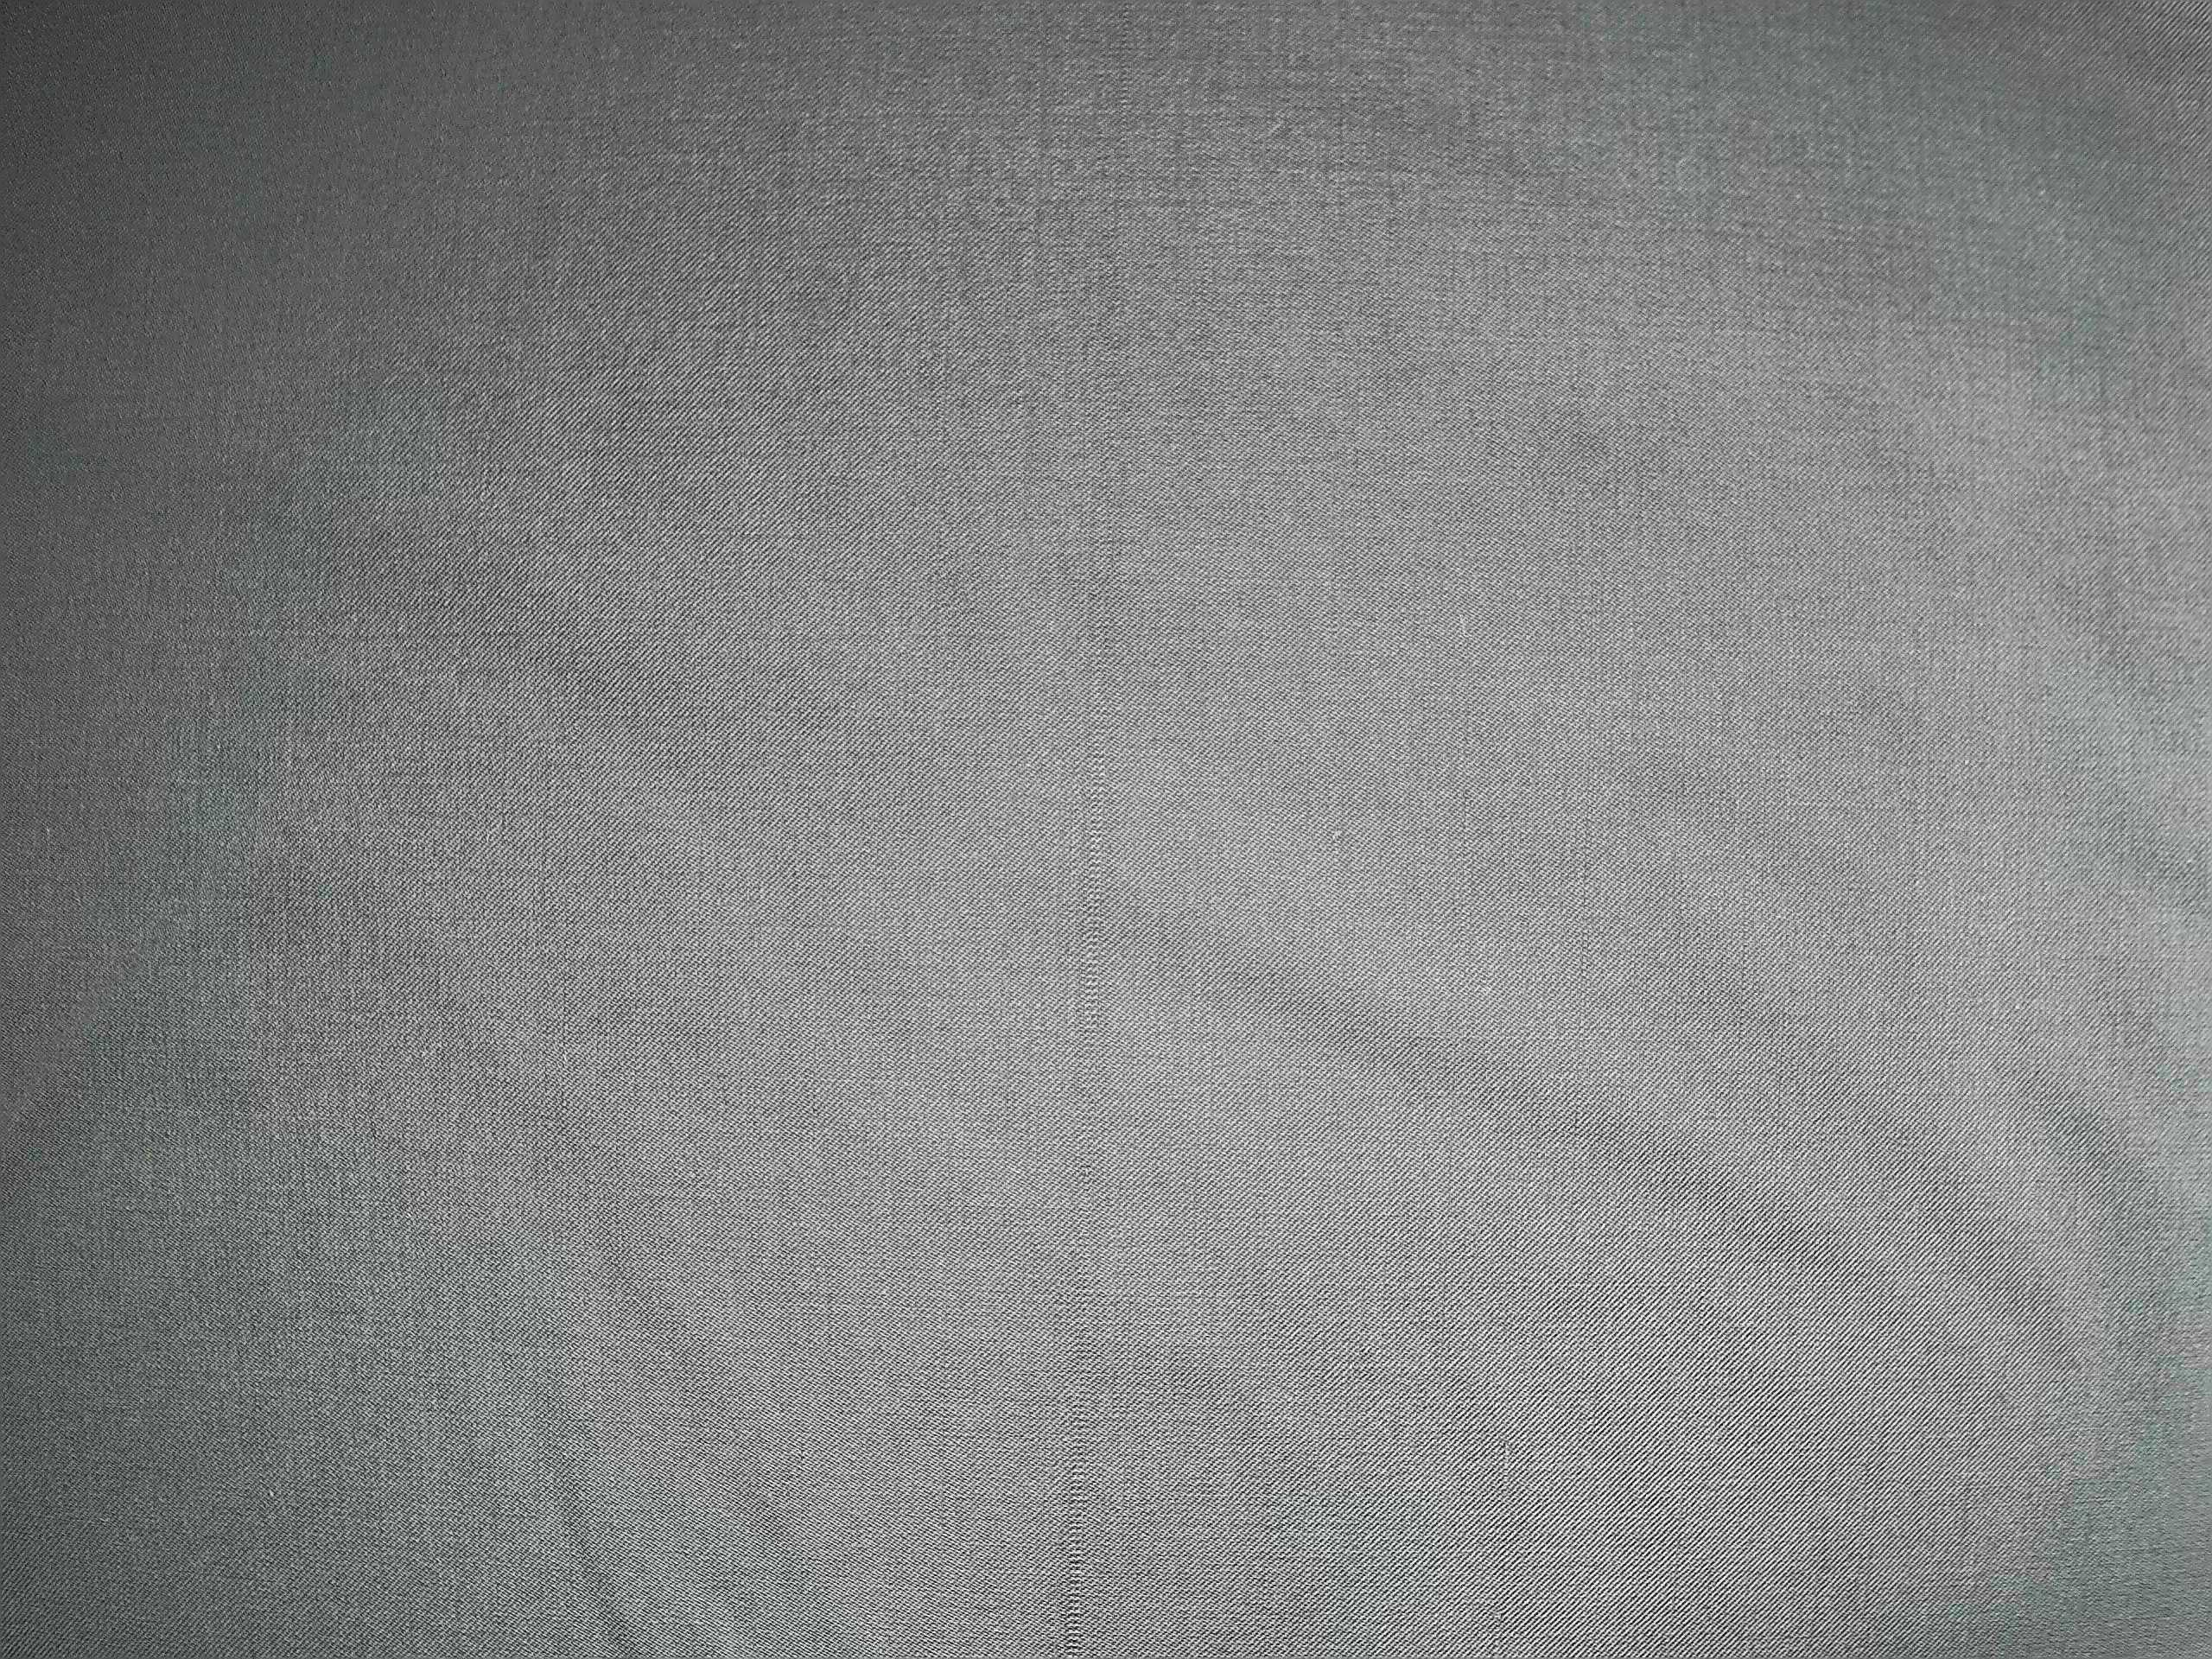hanging-warp: (1057, 505, 1137, 1344)
